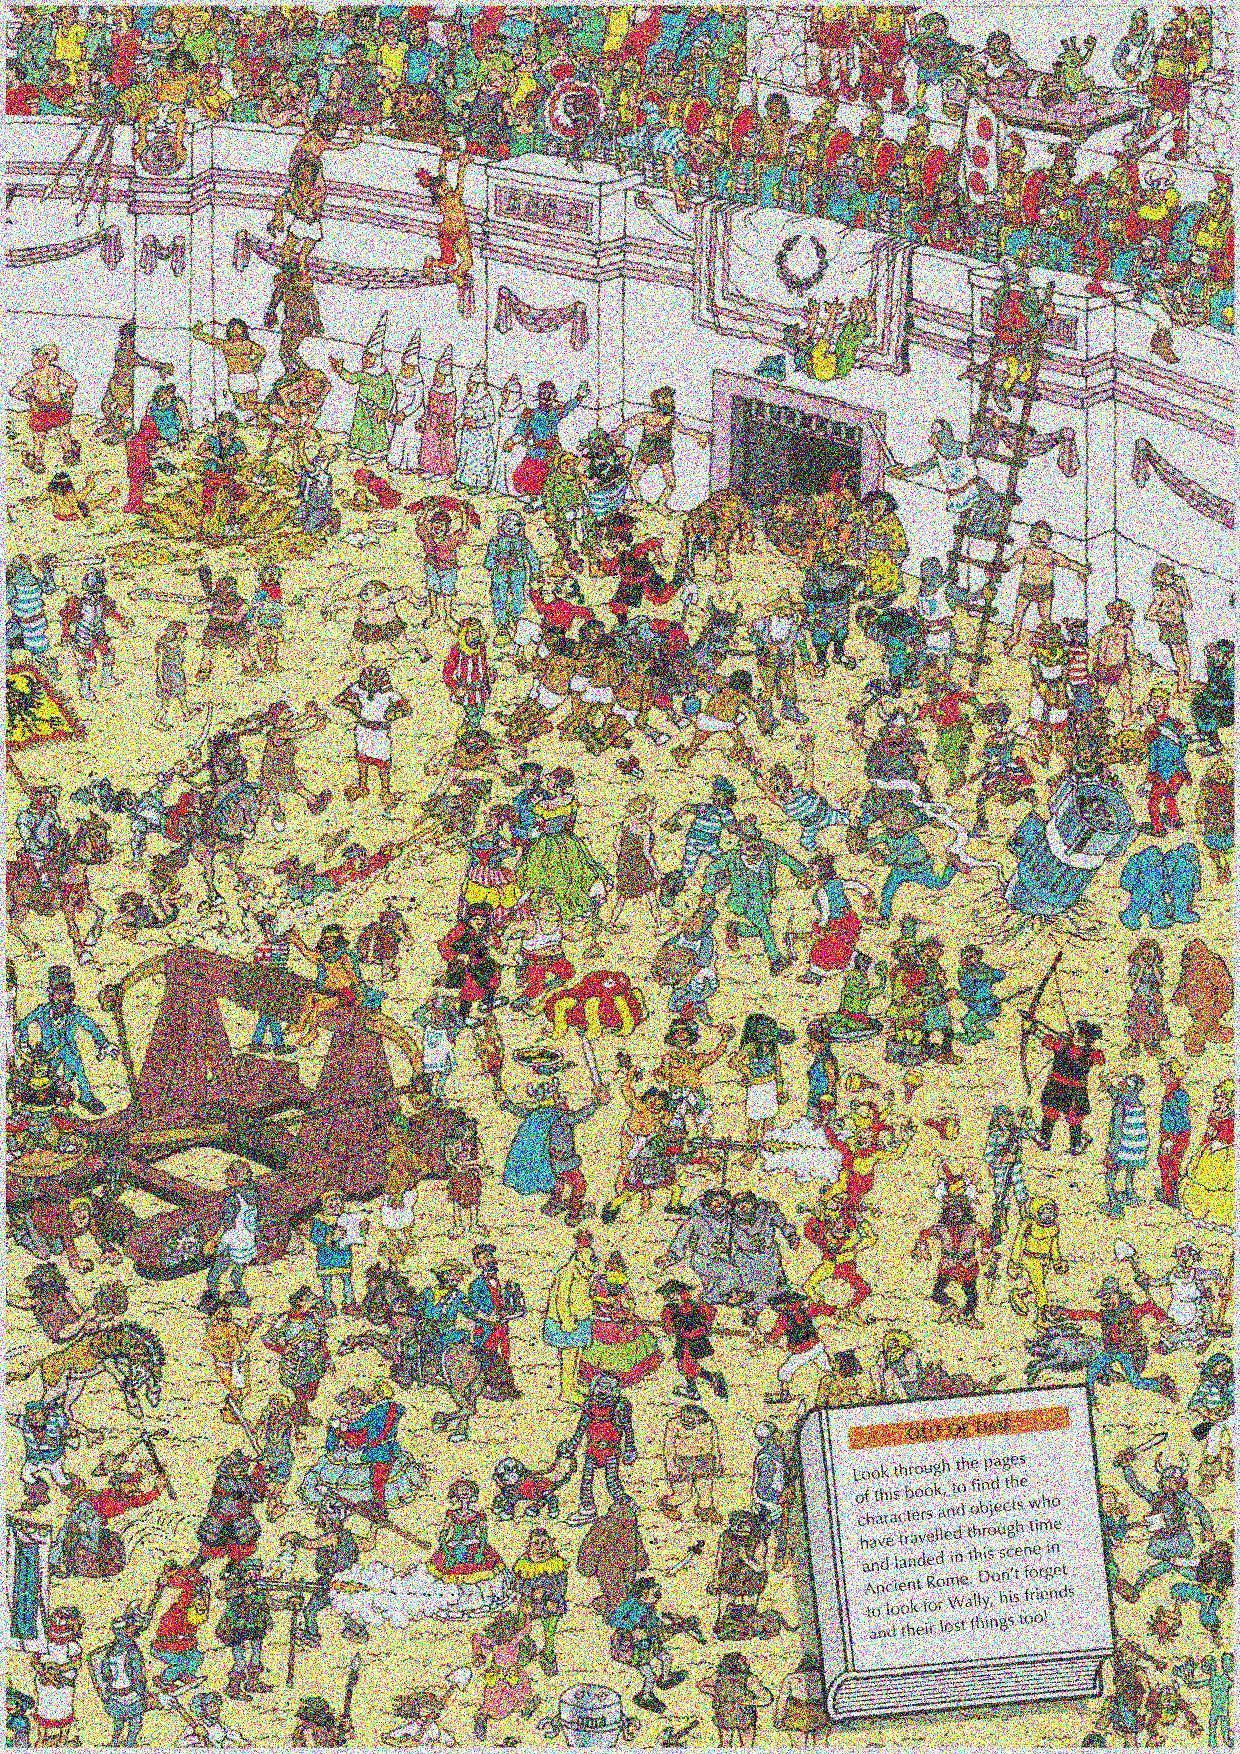waldos: (247, 910, 299, 1053)
